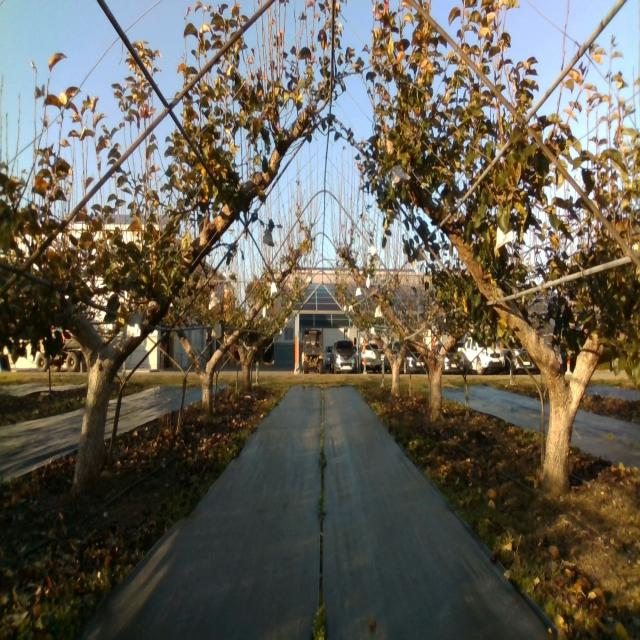pearbags: (391, 165, 412, 190), (496, 226, 514, 251), (125, 312, 142, 338), (262, 227, 274, 247), (208, 292, 221, 310)
